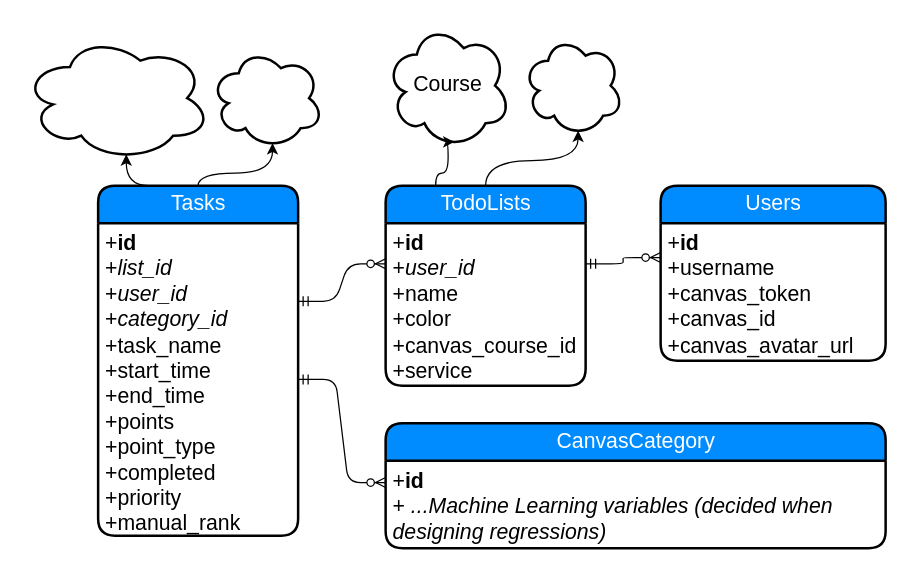
The diagram is 908 pixels wide and 570 high, and some of its shapes have lost their labels. The centre of each missing label's shape, as x and y in pixels:
Assignment: (x=116, y=97)
List: (x=572, y=85)
Task: (x=266, y=97)
